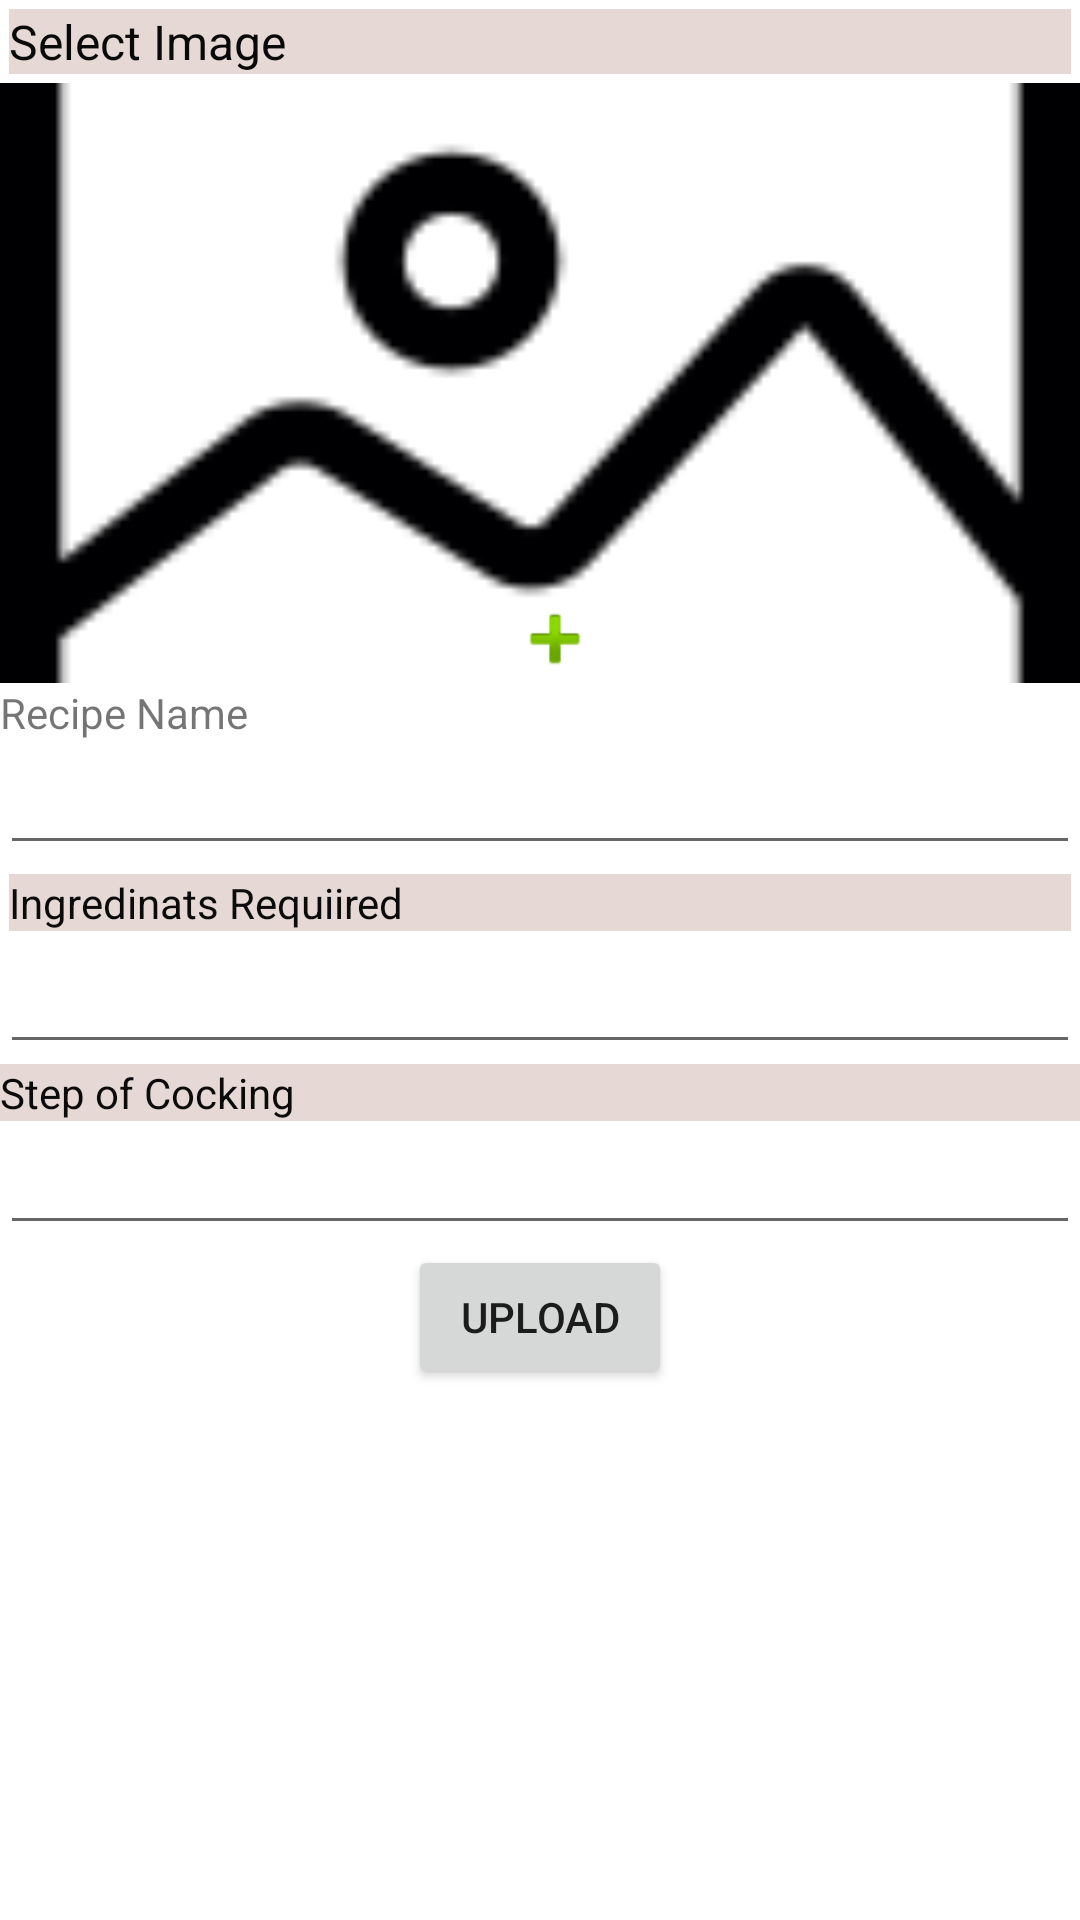

Where to tap for icons on this 1080 x 1920 app screen, as point (x, y):
add: point (555, 639)
